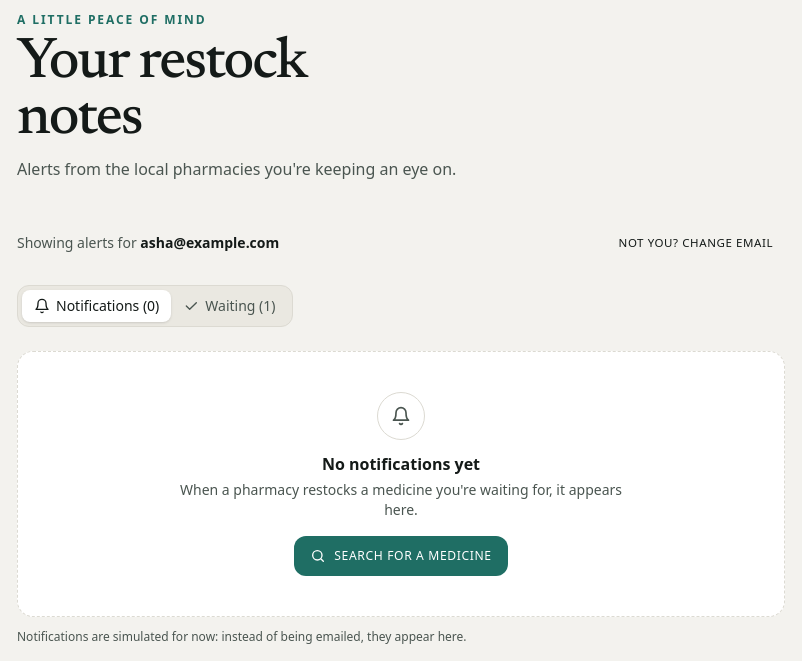
Test: NotificationsPage with an email › keeps fulfilled and cancelled subscriptions under 'Earlier'
The image size is (802, 661).
Click the button "Waiting (1)" at x=229, y=306, box 171,290 -> 288,322
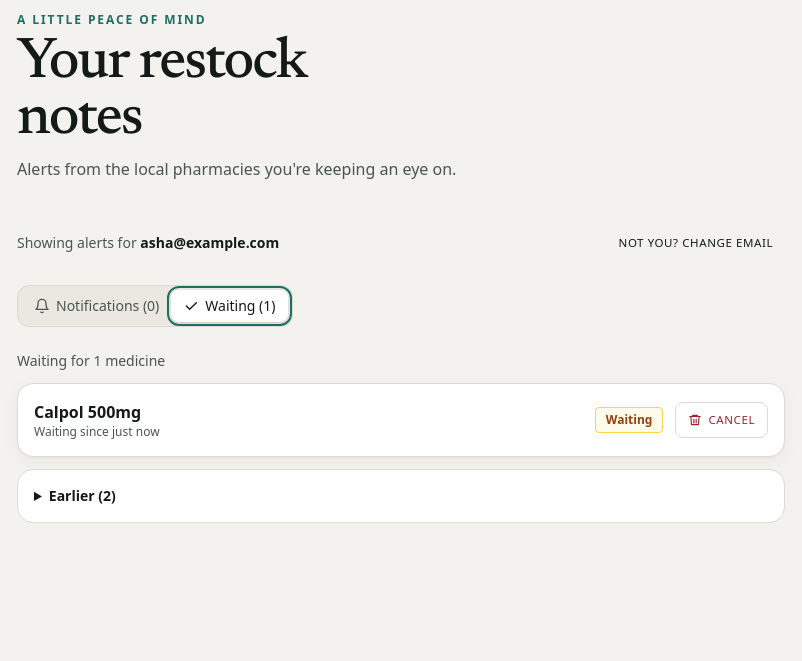
Check: the text "Calpol 500mg" is shown, box 34,401 -> 141,423
